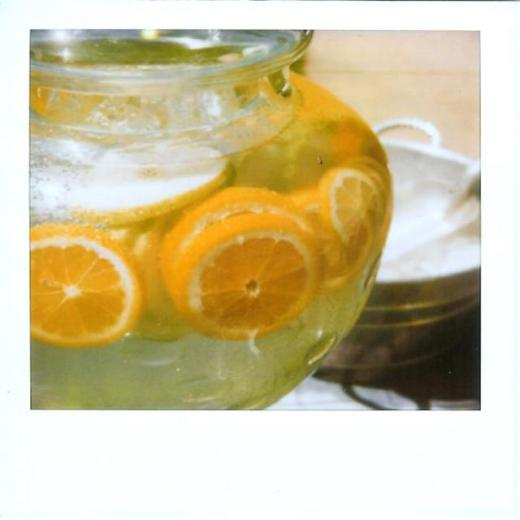Grape: (30, 139, 396, 349)
